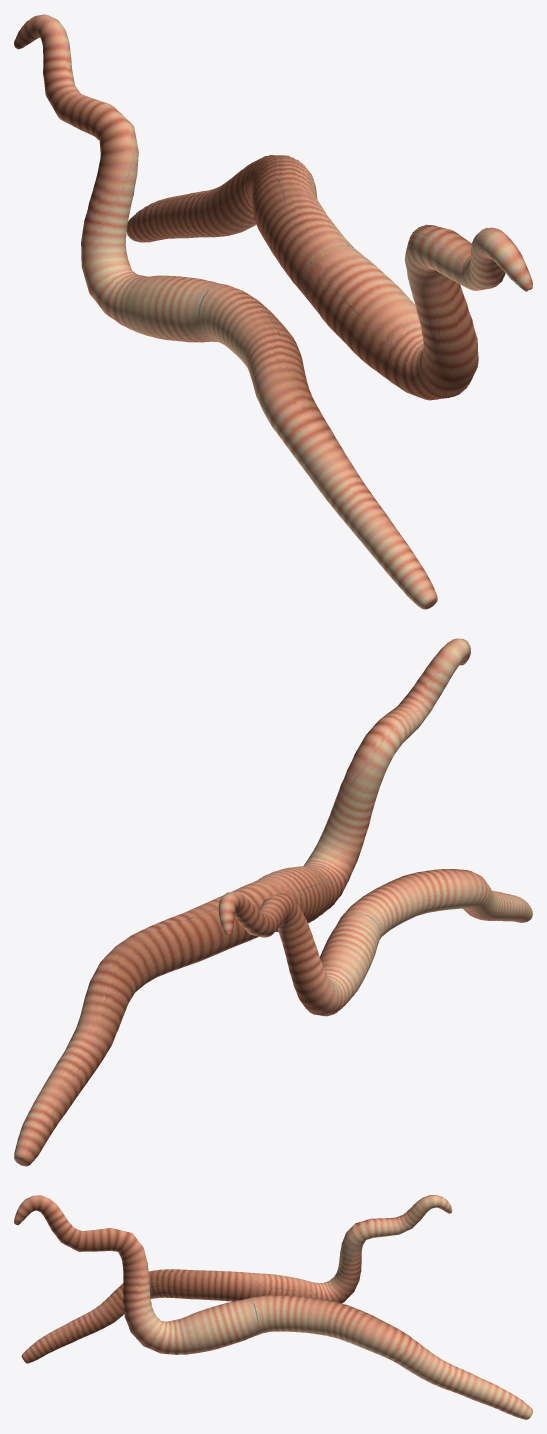
File: lombrices.glb
3 views of the same model, one above another, from view 1: azimuth 30°, elevation 25°; view 2: azimuth 150°, elevation 25°; view 3: azimuth 270°, elevation 25° (orthographic). The views are drawn at different scales.
Parts seen in each view (by area): view 1: Cylinder.001, Cylinder.002; view 2: Cylinder.001, Cylinder.002; view 3: Cylinder.001, Cylinder.002.
Boxes of the visible parts, left/top/right/bottom form: Cylinder.001: left=126, top=155, right=532, bottom=400; Cylinder.002: left=14, top=14, right=437, bottom=609; Cylinder.001: left=14, top=638, right=470, bottom=1166; Cylinder.002: left=218, top=869, right=532, bottom=1016; Cylinder.001: left=14, top=1195, right=532, bottom=1419; Cylinder.002: left=21, top=1195, right=452, bottom=1363.
Bounding box in the file's own units: 0.1707 × 0.2289 × 0.5467.
1 material, 1 textured.
